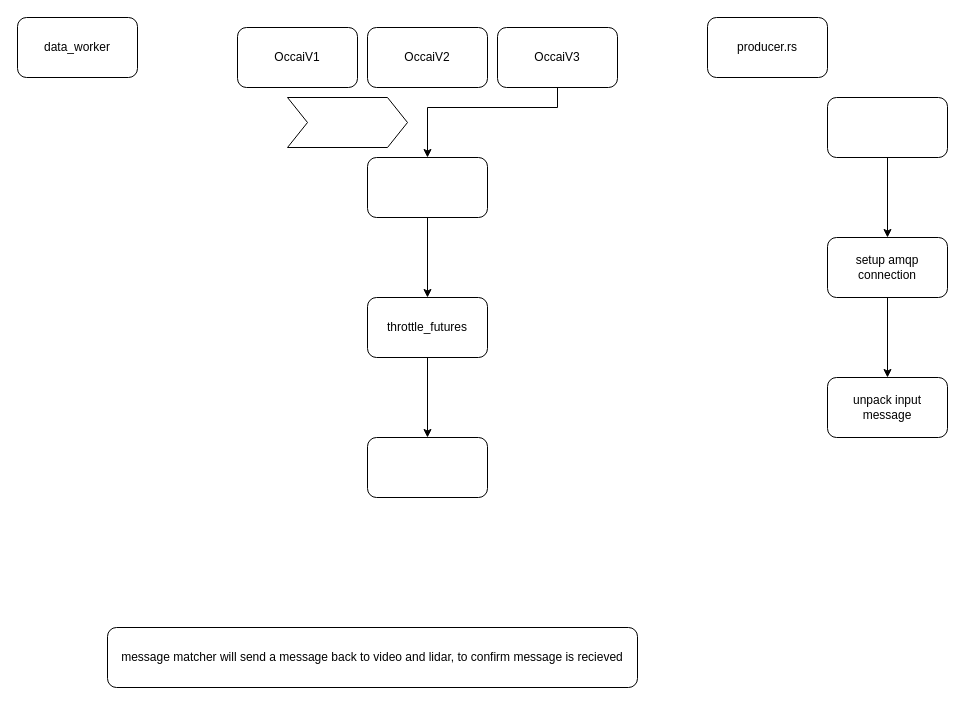
Some shapes in this 965 by 705 pixel diagram are drawn without their labels. Each missing label, with the centre of its shape:
iterate: the point at 347,122
producer_worker: the point at 887,127
publish_future: the point at 427,467
workers: the point at 427,187
